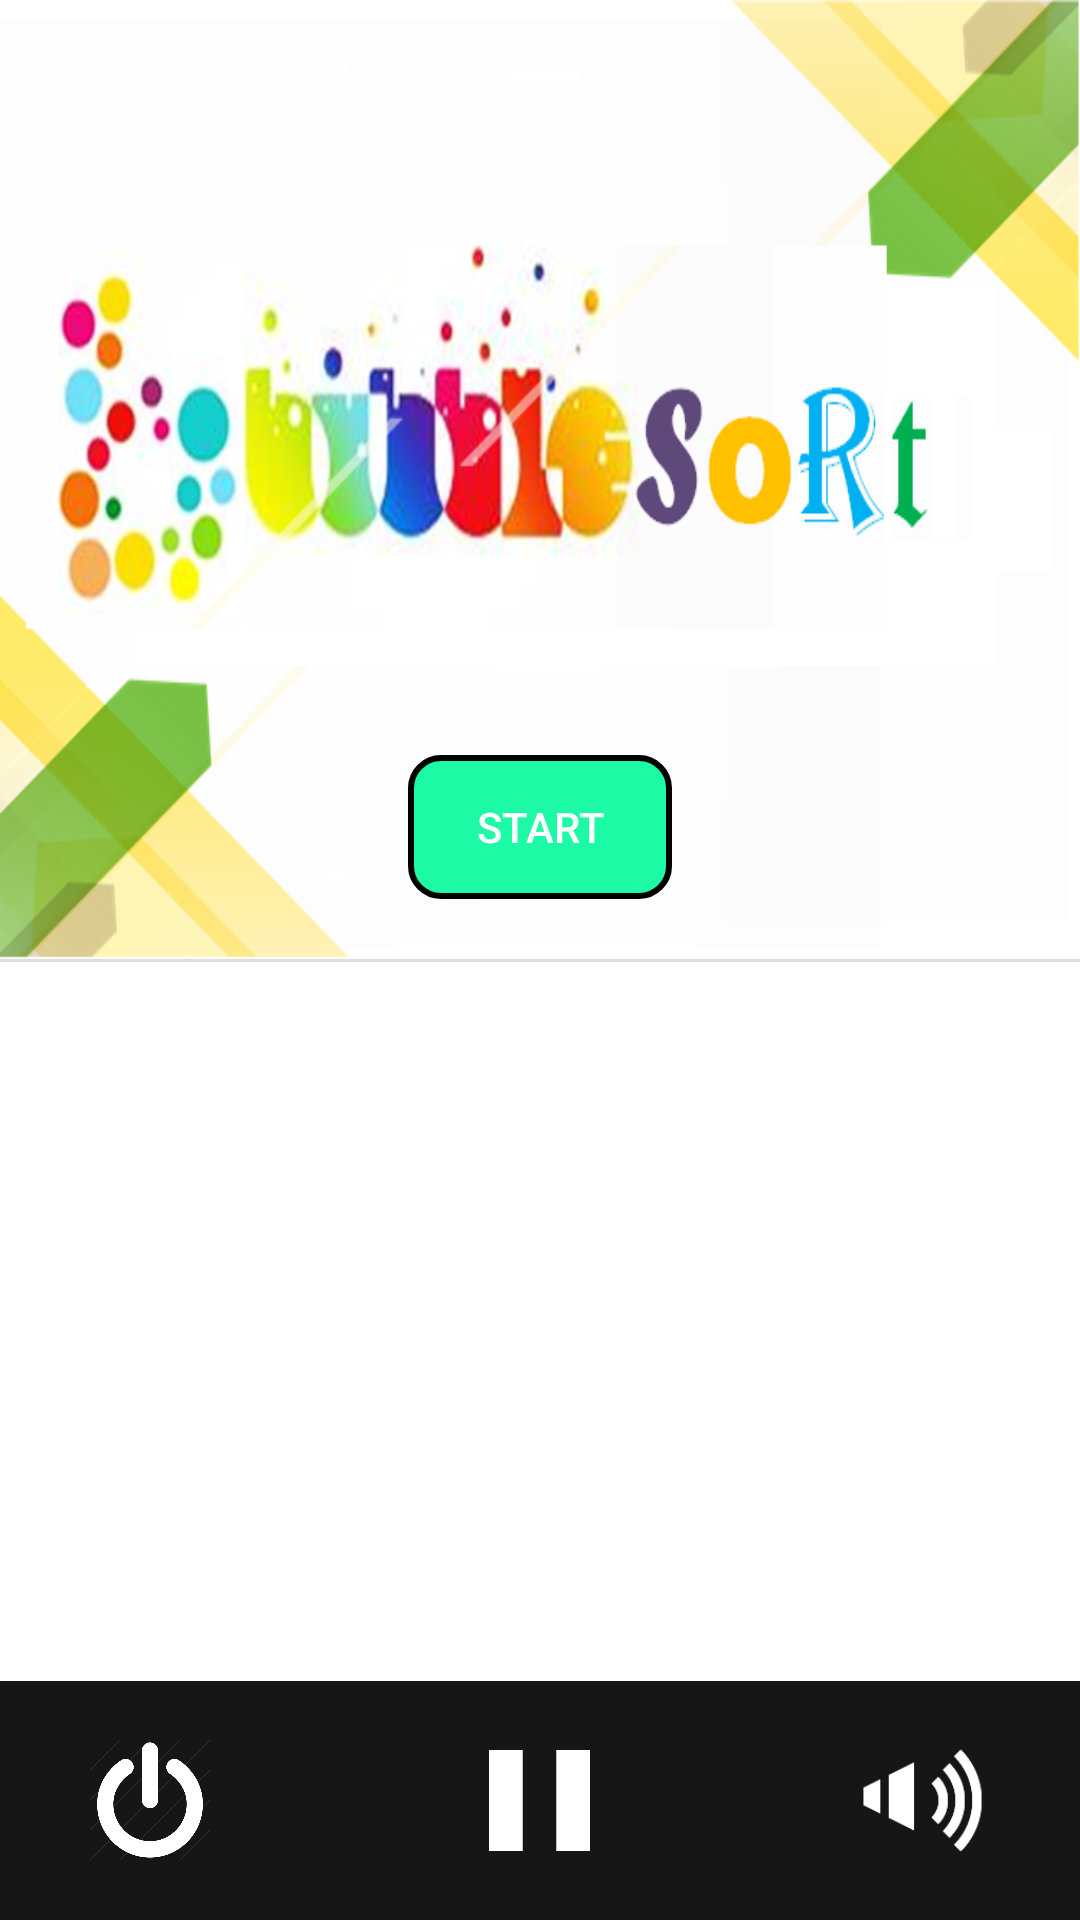

Icon bounding boxes for this 1080w x 1920h phone screenshot, format box=[x1, y1, x2, y2]:
pause: box=[489, 1750, 590, 1851]
volumeon: box=[863, 1749, 982, 1852]
